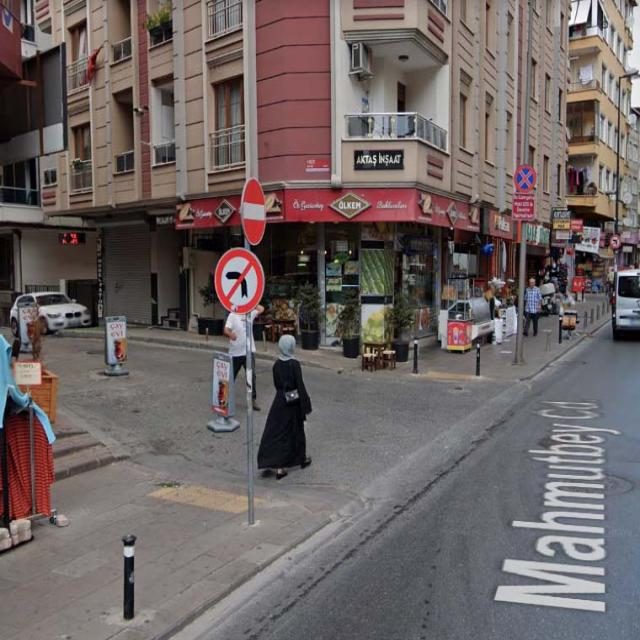girisyok: (240, 178, 268, 245)
soladonulmez: (214, 248, 264, 313)
